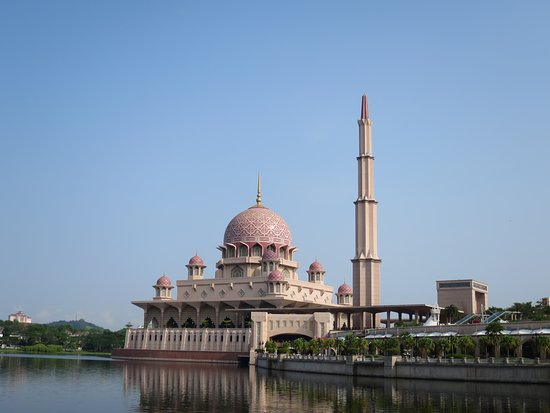Mosque: (140, 83, 385, 364)
